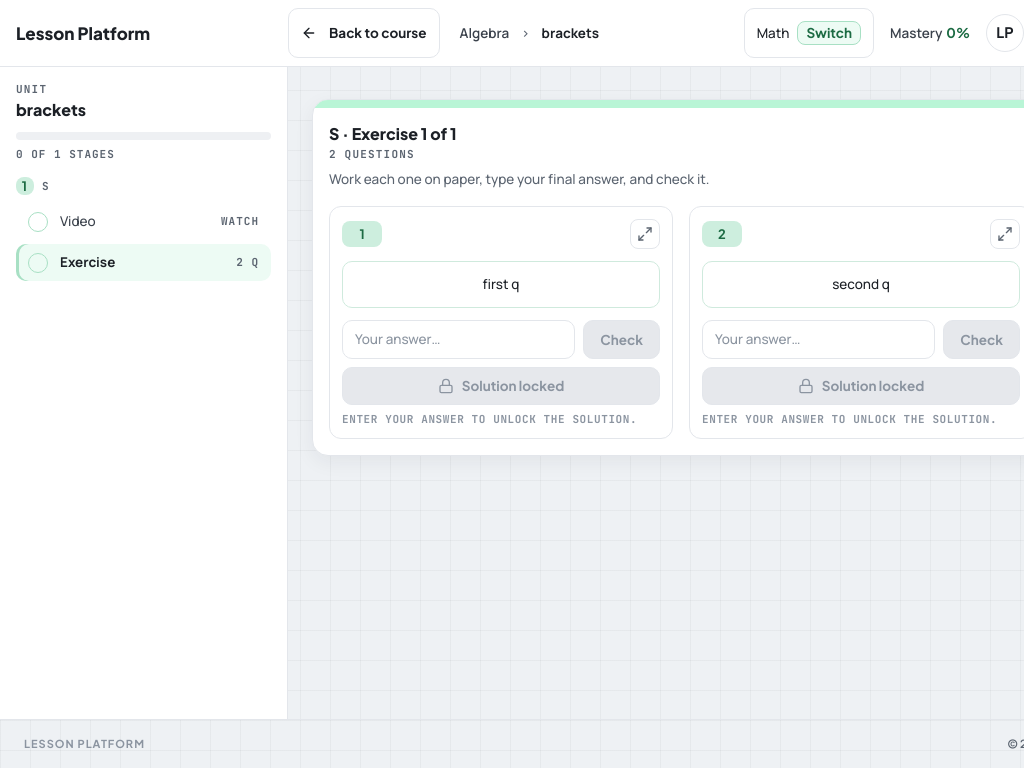
Test case: Question focus view (§7c) › answering inside the focus view records the result and shows the bar
This screenshot has width=1024, height=768.
Click the button named "Enlarge question 1" at (645, 234), box [630, 219, 660, 249]
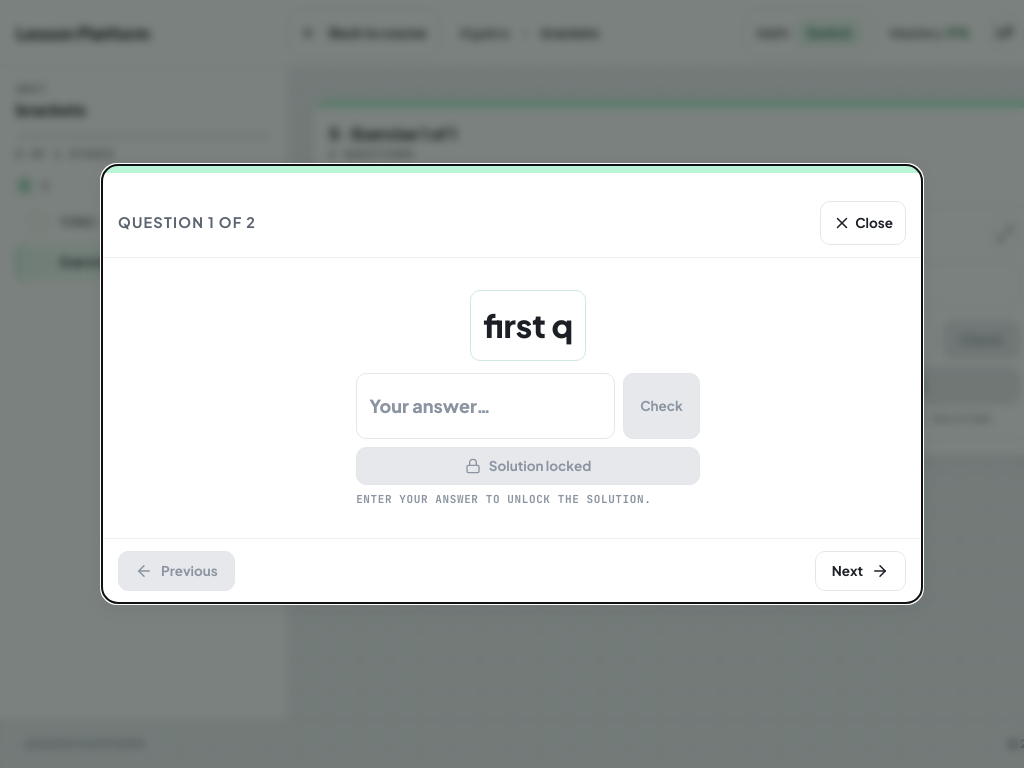
Type "a" into the field labelled "Your answer" at (486, 406), box [356, 373, 615, 439]
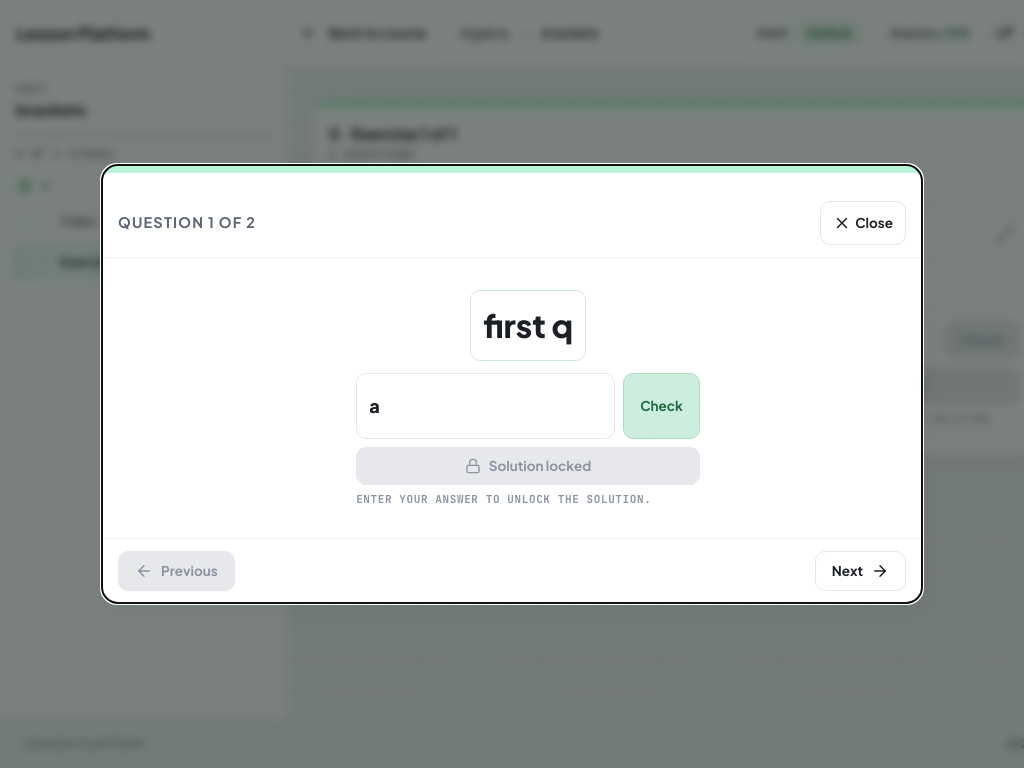
Click the button "Check" at (661, 406), box [623, 373, 700, 439]
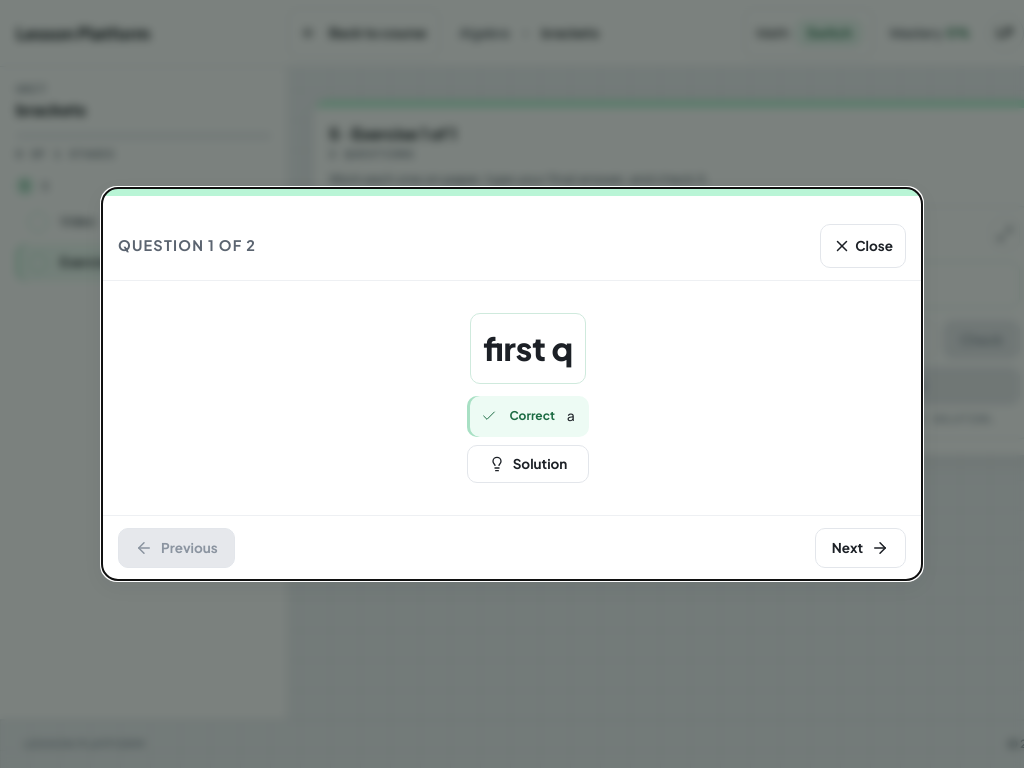
Check: the text "Correct" is shown, box [509, 410, 555, 422]
